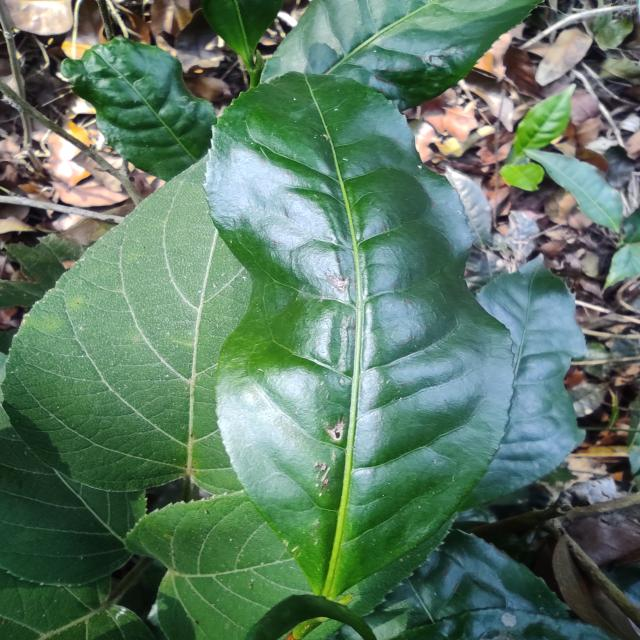Category D(7+ days, Not for Tea): (178, 63, 526, 613)
